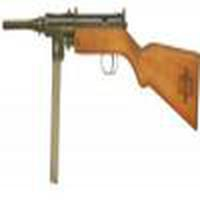gun: (1, 7, 200, 132)
